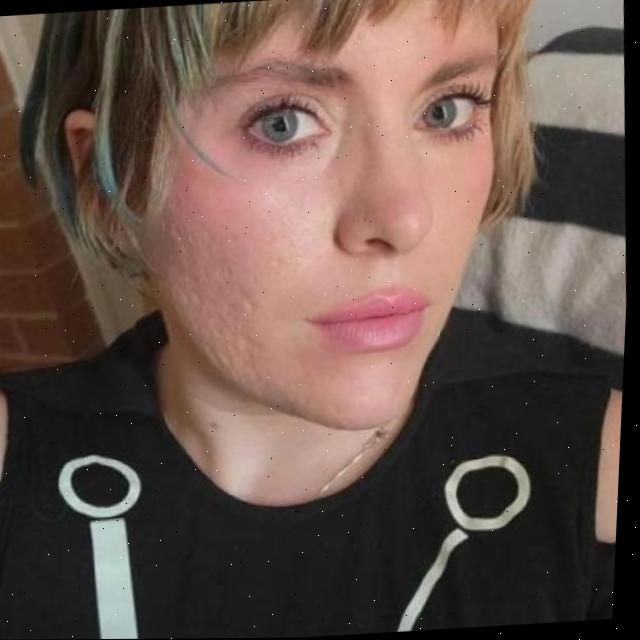Acne: (153, 226, 288, 359)
